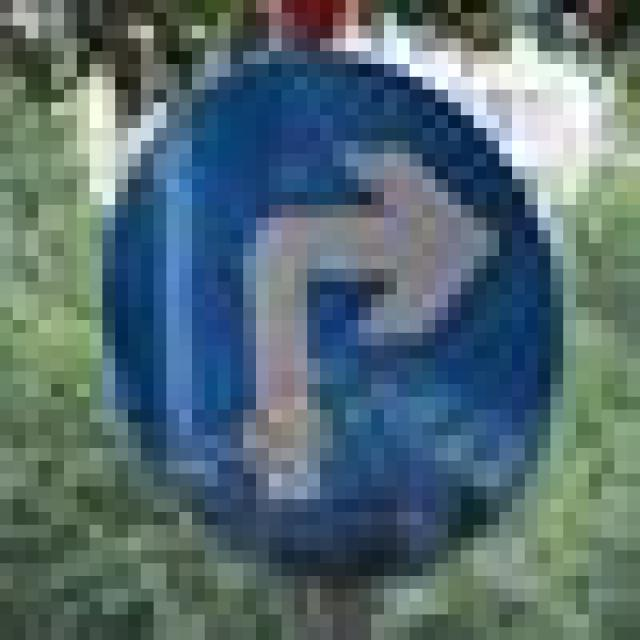railway_crossing: (77, 38, 550, 576)
